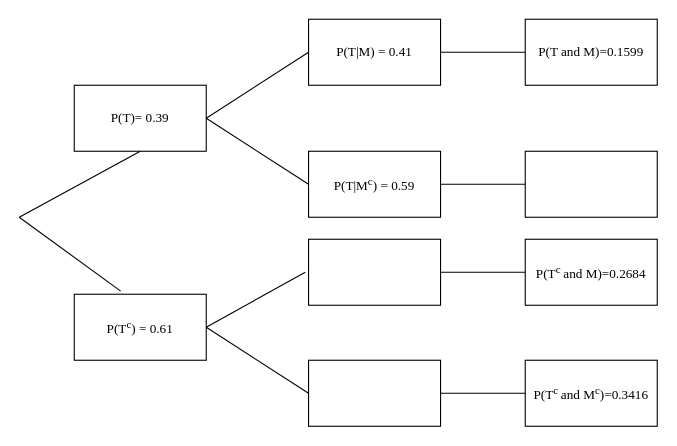
Image size: 677x446. Some labels were removed from this diagram. Here are the shapes that lost their labels. From the top down, the centre of each, then its label:
(x=590, y=183): P(T and M c )=0.2301
(x=374, y=271): Caught P(T c | M )=0.44
(x=374, y=392): Not Caught P(T c | M c )=0.56
